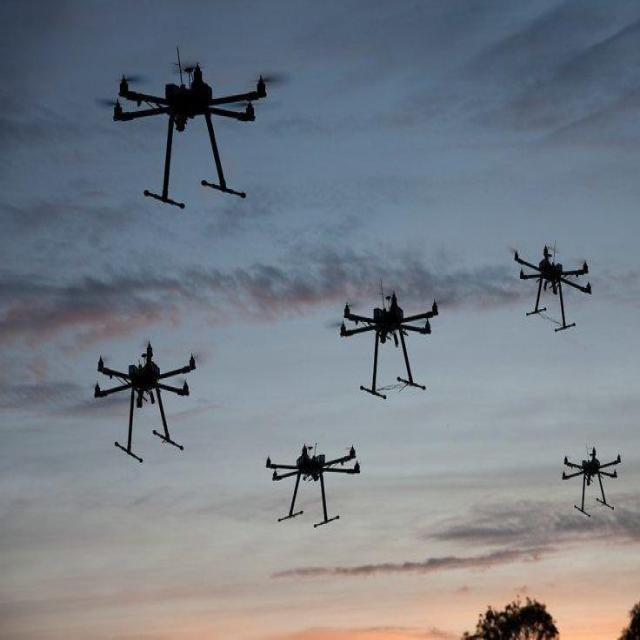drone: (103, 45, 268, 212), (93, 342, 198, 463), (338, 290, 441, 402), (264, 444, 359, 530), (512, 242, 594, 336), (561, 444, 621, 519)
